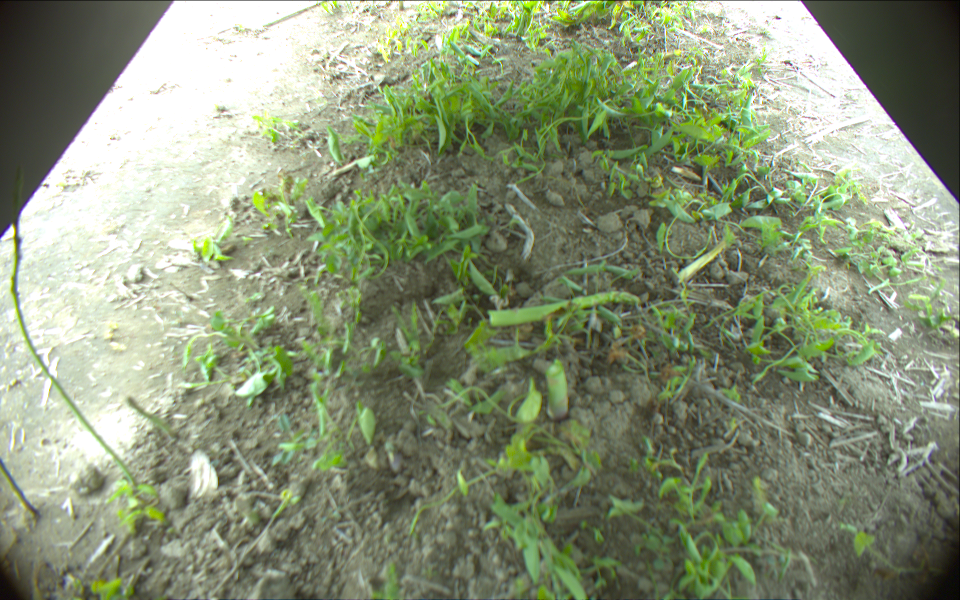aspa: (7, 138, 141, 490), (488, 287, 641, 328), (126, 394, 178, 441), (1, 454, 39, 515), (546, 359, 568, 422)
